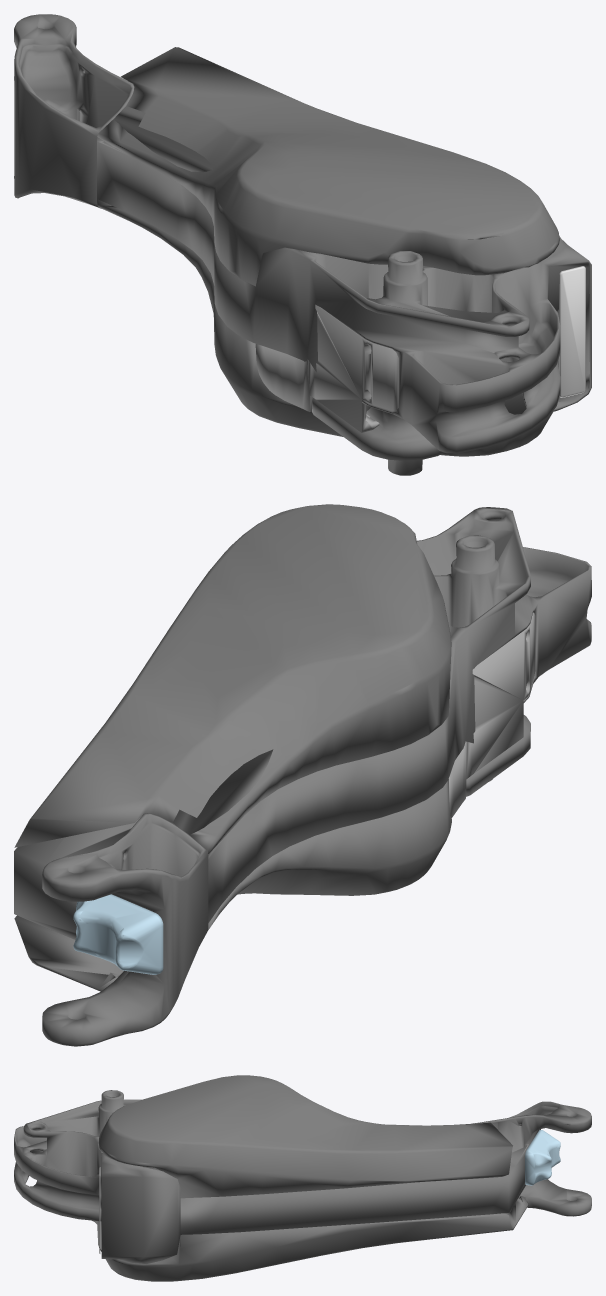
File: RightShin.obj
The picture shows the model from 3 angles, top to bottom: view 1: azimuth 30°, elevation 25°; view 2: azimuth 150°, elevation 25°; view 3: azimuth 270°, elevation 25°; orthographic projection. The views are drawn at different scales.
Visible parts, largest first — view 1: RightShin_Material__75.001, RightShin_Material__74.001, RightShin_Material__76.001; view 2: RightShin_Material__75.001, RightShin_Material__74.001, RightShin_Material__77.001; view 3: RightShin_Material__75.001, RightShin_Material__77.001.
Part boxes in pixels (x1,y1,x2,y2): RightShin_Material__75.001: [14, 14, 591, 475]; RightShin_Material__74.001: [255, 304, 398, 432]; RightShin_Material__76.001: [559, 266, 585, 397]; RightShin_Material__75.001: [14, 504, 591, 1046]; RightShin_Material__74.001: [448, 612, 535, 817]; RightShin_Material__77.001: [73, 894, 163, 974]; RightShin_Material__75.001: [14, 1075, 591, 1281]; RightShin_Material__77.001: [525, 1130, 560, 1185].
Bounding box in the file's own units: 0.1614 × 0.1403 × 0.5162.
